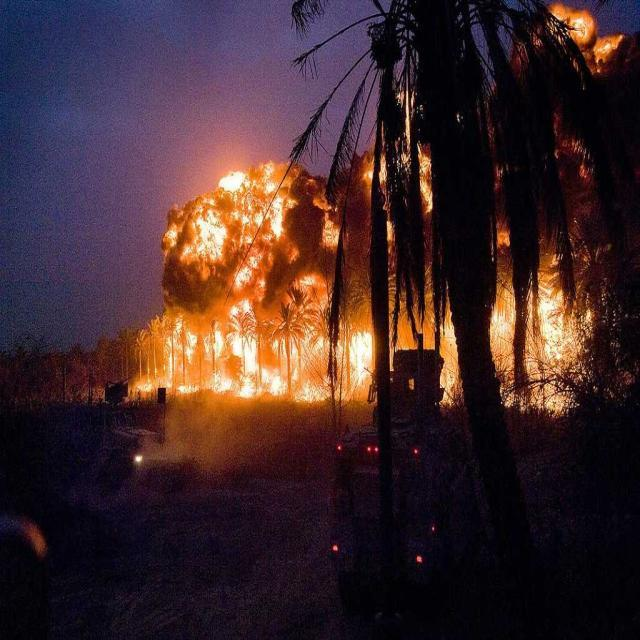Fire: (526, 267, 580, 390), (166, 300, 235, 396), (263, 340, 343, 408), (388, 248, 431, 348), (494, 225, 516, 396), (250, 128, 280, 253), (556, 6, 616, 68), (193, 182, 219, 266), (441, 294, 458, 414), (349, 328, 372, 406), (238, 312, 258, 398), (140, 324, 162, 390), (317, 192, 340, 249), (418, 137, 433, 213), (164, 220, 189, 264), (236, 267, 260, 298), (219, 163, 242, 195)
